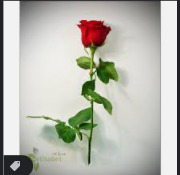RedRose: (74, 13, 113, 53)
